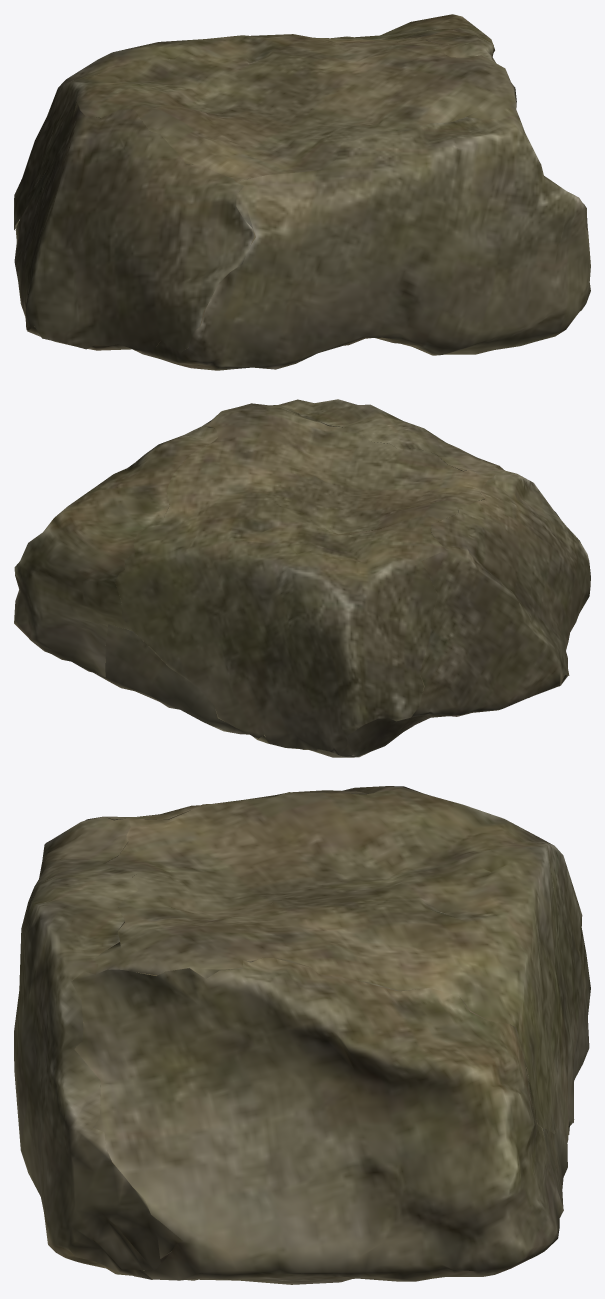
Rendered from rock_moss_set_02_0.glb.
3 renders of one model, top to bottom at view 1: azimuth 30°, elevation 25°; view 2: azimuth 150°, elevation 25°; view 3: azimuth 270°, elevation 25°, orthographic. The views are drawn at different scales.
Visible parts, largest first — view 1: rock_moss_set_02_rock07; view 2: rock_moss_set_02_rock07; view 3: rock_moss_set_02_rock07.
Part boxes in pixels (<box>): rock_moss_set_02_rock07: <box>14,14,590,370</box>; rock_moss_set_02_rock07: <box>14,399,590,757</box>; rock_moss_set_02_rock07: <box>14,786,590,1284</box>.
Size of the model in its own units: 1.69 by 0.743 by 1.22.
Materials: 1 (1 with a texture image).
